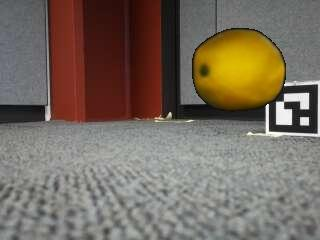lemon: (196, 28, 286, 110)
